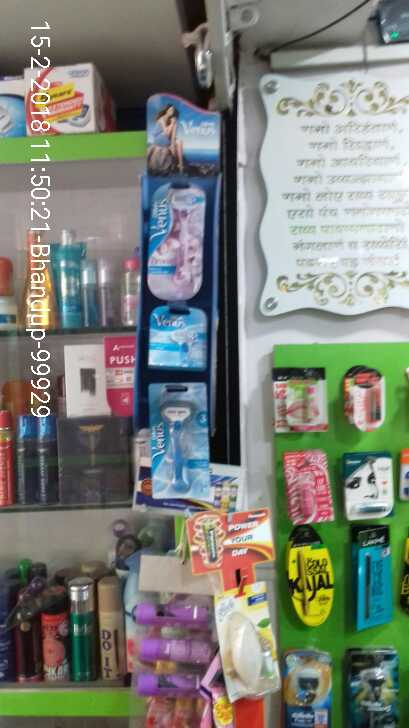venus: (144, 383, 215, 499), (147, 181, 203, 303), (133, 304, 210, 369)
